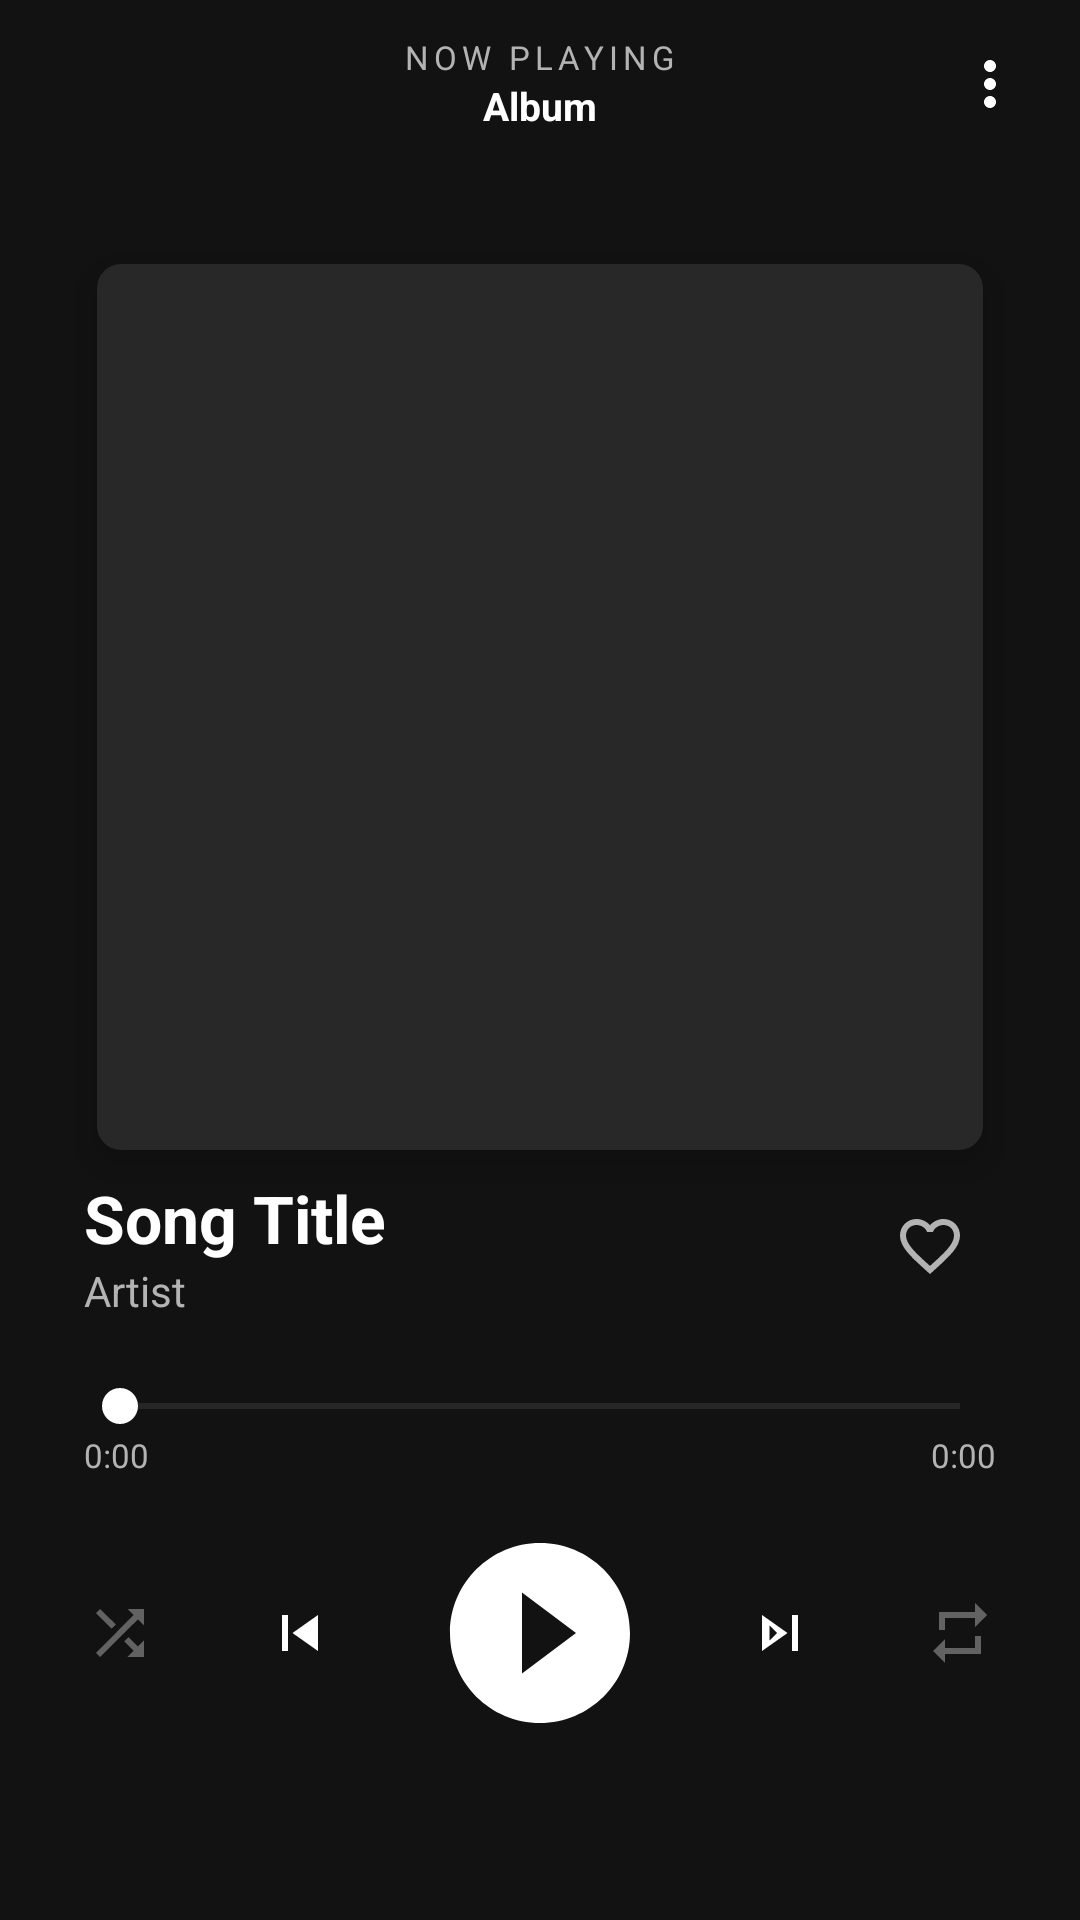

Icons on this 1080px x 1920px Android screen, each with its box as (x1, y1, x2, y2):
favorite: (900, 1219, 960, 1274)
more vert: (984, 60, 996, 108)
play circle: (449, 1543, 630, 1723)
repeat: (933, 1603, 987, 1663)
shuffle: (96, 1609, 144, 1657)
skip next: (762, 1615, 798, 1651)
skip previous: (282, 1615, 318, 1651)
